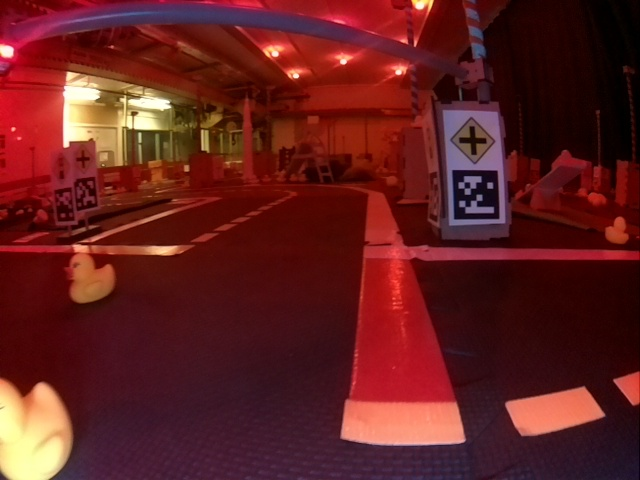Duckie: (4, 377, 73, 478), (66, 255, 116, 301), (606, 216, 630, 245)
Intersection sign: (450, 118, 496, 161), (73, 146, 95, 174)
QR code: (451, 170, 500, 215), (74, 180, 97, 207), (56, 190, 74, 223)
Signal sign: (52, 156, 71, 183)
